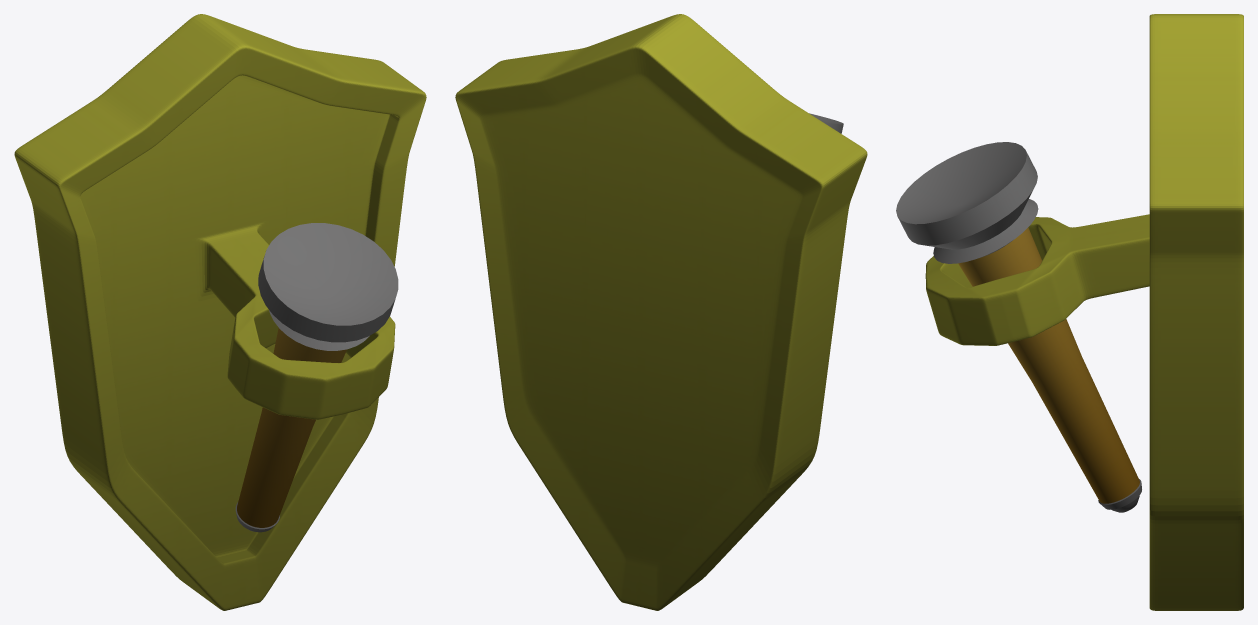
File: Luz.fbx
3 views of the same model, side by side, from view 1: azimuth 30°, elevation 25°; view 2: azimuth 150°, elevation 25°; view 3: azimuth 270°, elevation 25° (orthographic). The views are drawn at different scales.
Parts seen in each view (by area): view 1: Cube, Cylinder; view 2: Cube; view 3: Cube, Cylinder.
Boxes of the visible parts, x1,y1,x2,y2 form: Cube: (14,14,426,610); Cylinder: (235,223,398,532); Cube: (455,14,867,610); Cube: (925,14,1243,610); Cylinder: (896,142,1141,512).
Size of the model in its own units: 146 by 213 by 114.
